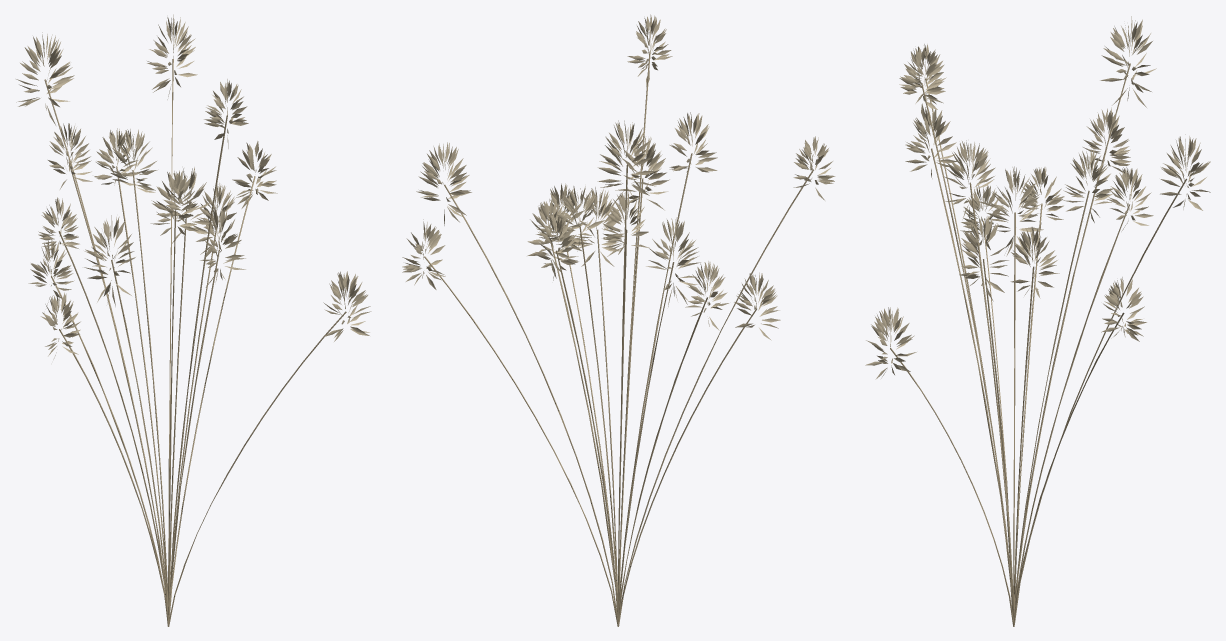
File: bunny-1.glb
3 views of the same model, side by side, from view 1: azimuth 30°, elevation 25°; view 2: azimuth 150°, elevation 25°; view 3: azimuth 270°, elevation 25° (orthographic). The views are drawn at different scales.
Visible parts, largest first — view 1: bunny-leaves, bunny-stems; view 2: bunny-leaves, bunny-stems; view 3: bunny-leaves, bunny-stems.
Part boxes in pixels (x1=…): bunny-leaves: x1=16, y1=14, x2=371, y2=359; bunny-stems: x1=44, y1=59, x2=346, y2=626; bunny-leaves: x1=402, y1=14, x2=835, y2=340; bunny-stems: x1=424, y1=51, x2=813, y2=626; bunny-leaves: x1=865, y1=16, x2=1210, y2=379; bunny-stems: x1=890, y1=63, x2=1186, y2=626.
Bounding box in the file's own units: 0.4208 × 0.6967 × 0.3736.
